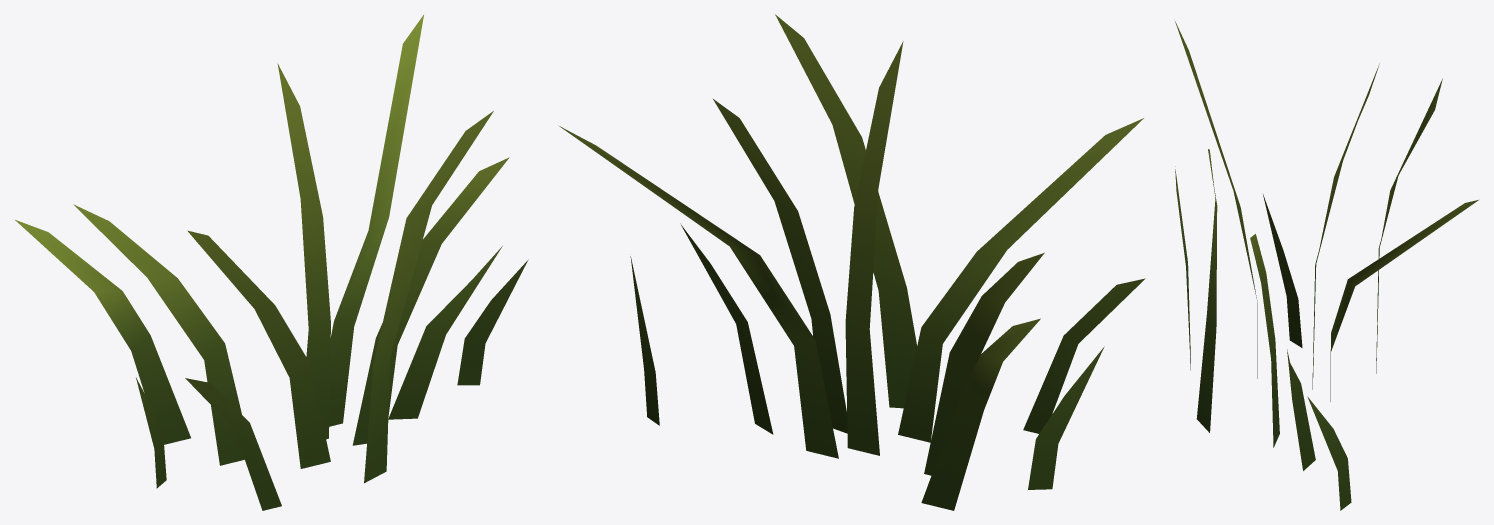
The model's file is grass_small.gltf.
The picture shows the model from 3 angles, left to right: view 1: azimuth 30°, elevation 25°; view 2: azimuth 150°, elevation 25°; view 3: azimuth 270°, elevation 25°; orthographic projection. The views are drawn at different scales.
Parts seen in each view (by area): view 1: Grass_Small; view 2: Grass_Small; view 3: Grass_Small.
Part boxes in pixels (x1=…): Grass_Small: x1=15, y1=15, x2=528, y2=510; Grass_Small: x1=558, y1=14, x2=1145, y2=510; Grass_Small: x1=1175, y1=21, x2=1478, y2=510.
Size of the model in its own units: 0.47 by 0.3941 by 0.2775.
Materials: 1 (1 with a texture image).
